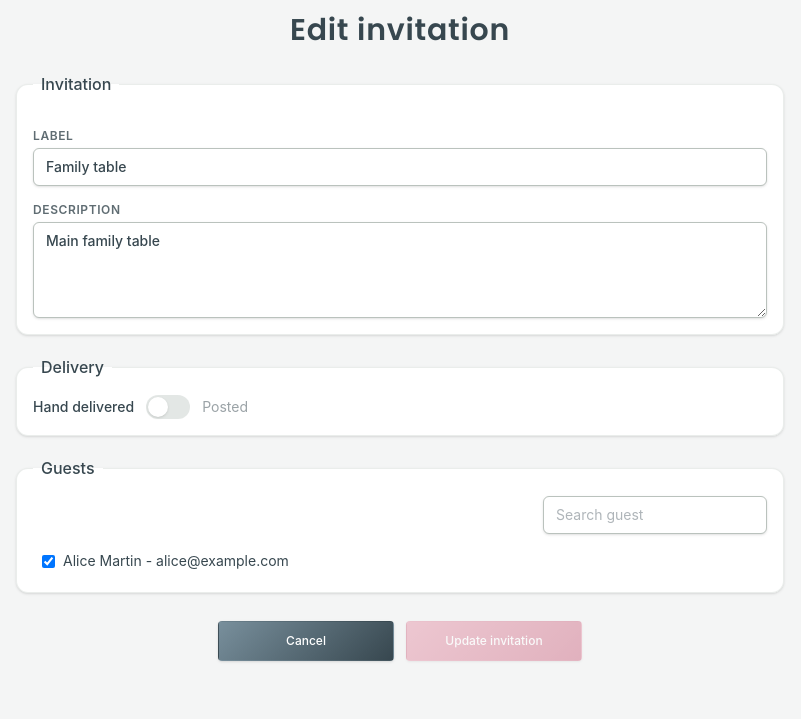
Test: EditInvitationView › shows api error when update fails
Replace the text in the field with test id "invitation-label-input" with "Family table updated" at point(400, 167), box left=33, top=148, right=767, bottom=186
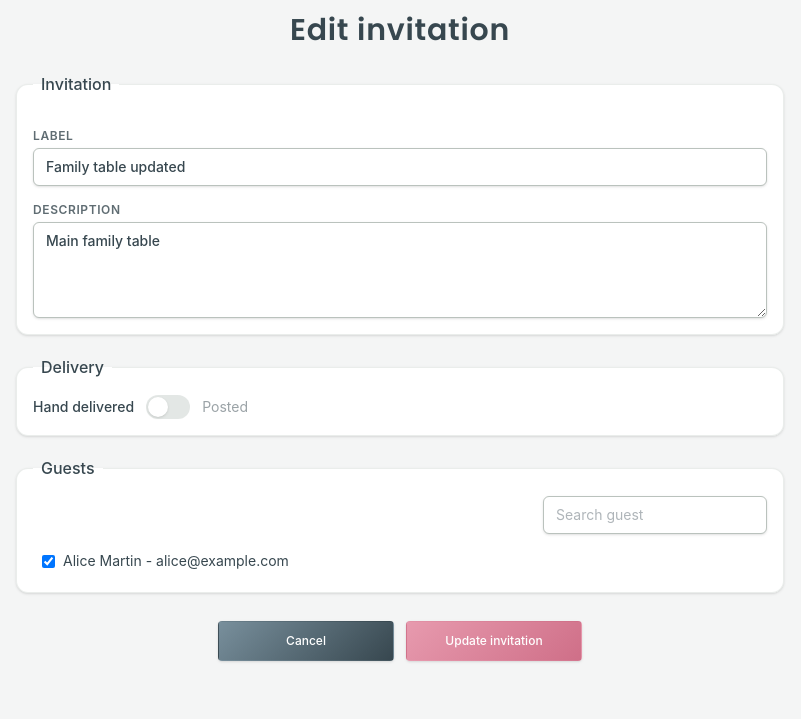
Submit the form
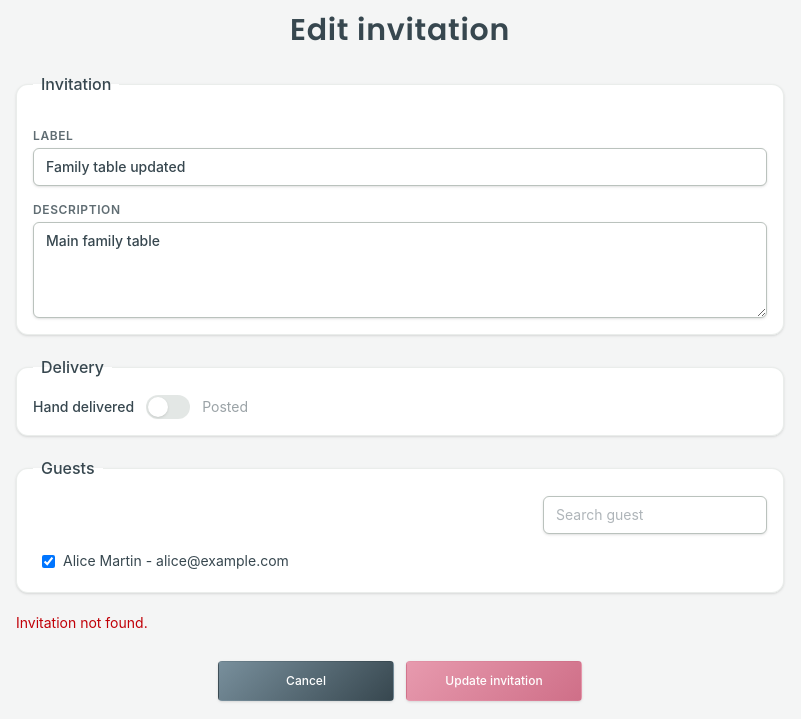
Now the text with test id "invitation-submit-error" reads "Invitation not found.", box left=16, top=614, right=148, bottom=631
